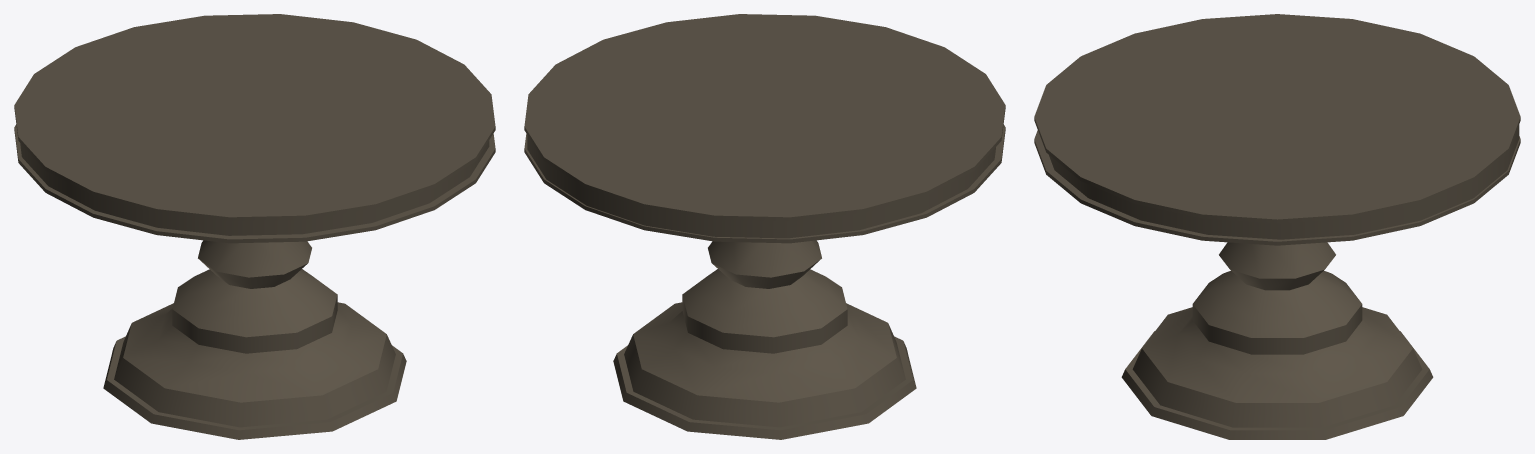
File: table-roundsmall.glb
3 views of the same model, side by side, from view 1: azimuth 30°, elevation 25°; view 2: azimuth 150°, elevation 25°; view 3: azimuth 270°, elevation 25° (orthographic).
Parts seen in each view (by area): view 1: Table_RoundSmall; view 2: Table_RoundSmall; view 3: Table_RoundSmall.
Boxes of the visible parts, x1,y1,x2,y2 form: Table_RoundSmall: [14, 14, 495, 439]; Table_RoundSmall: [524, 14, 1005, 439]; Table_RoundSmall: [1034, 14, 1520, 439].
Size of the model in its own units: 1.94 by 1.15 by 1.94.
